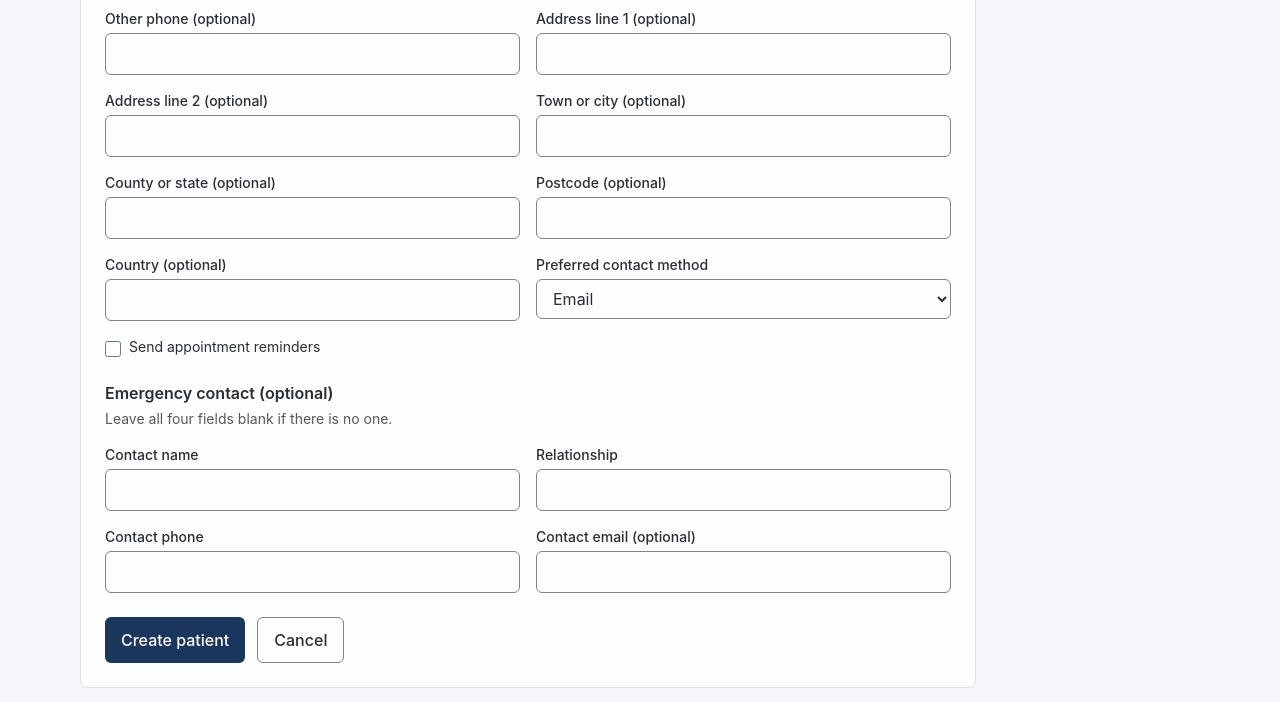
add patient › requires the mandatory fields
This screenshot has width=1280, height=702.
(page scrolled)
Step 1. Click the button "Create patient" → click(175, 640), box [105, 617, 245, 663]
(page scrolled)
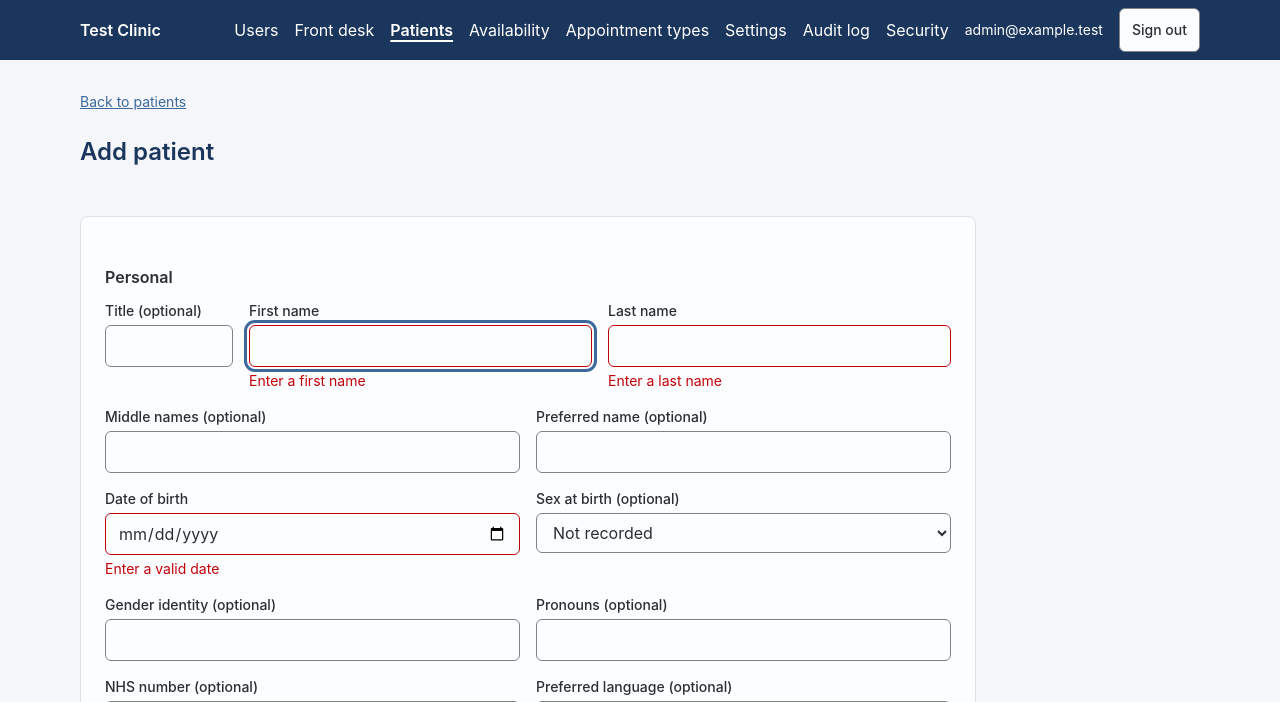
expect the text "Enter a first name" is shown: met, box [249, 372, 366, 389]
expect the text "Enter a last name" is shown: met, box [608, 372, 722, 389]
